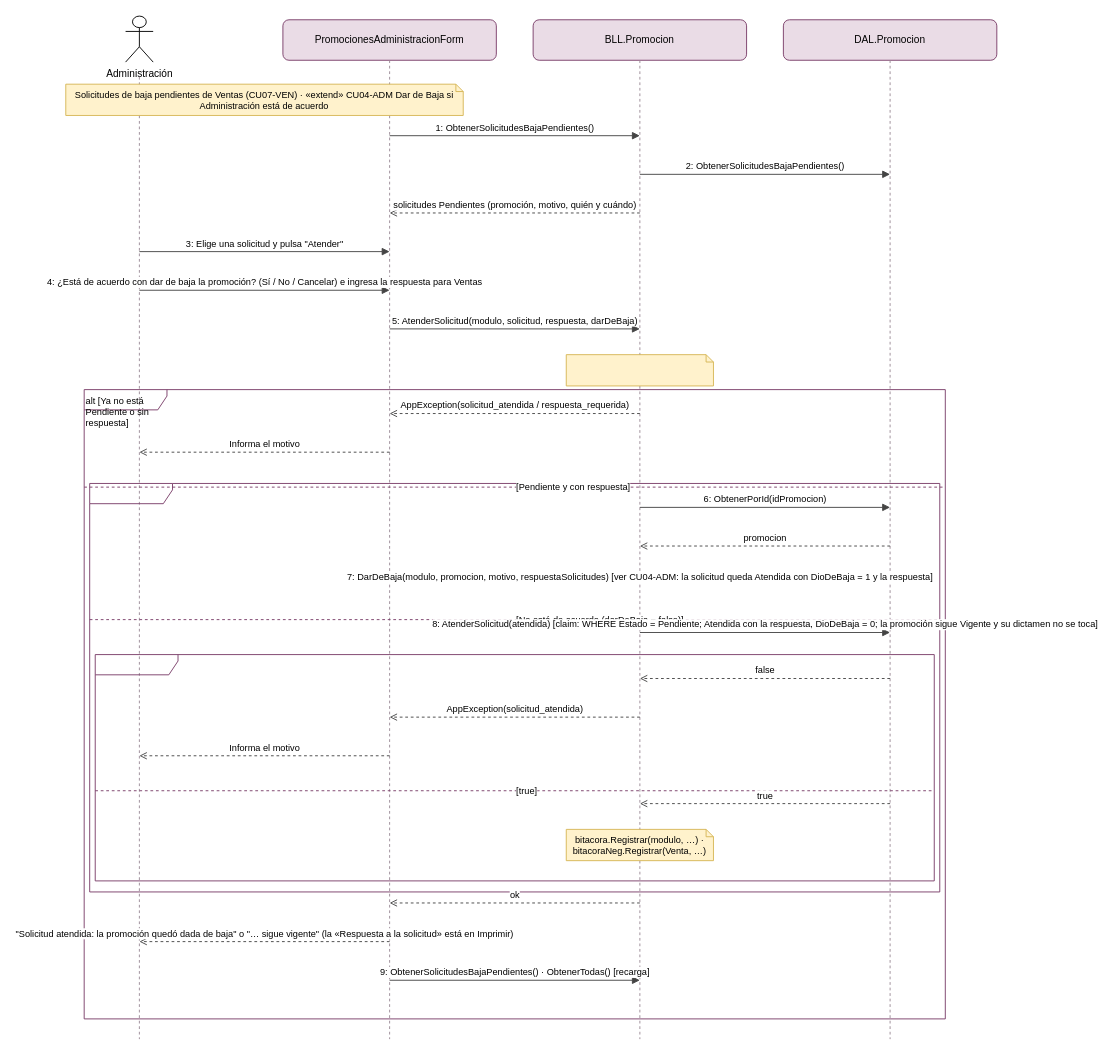
Image size: 1114x1056. Some labels were removed from this diagram. Here are the shapes that lost their labels. From the top down, the box of each, then its label:
(565, 354, 713, 386): PermisosAccion.Exigir(PromocionesAdminEditar, PromocionesAdmin)
(89, 483, 940, 892): alt [De acuerdo (darDeBaja = true)]
(94, 654, 934, 881): alt [false: otra sesión ya la atendió]
